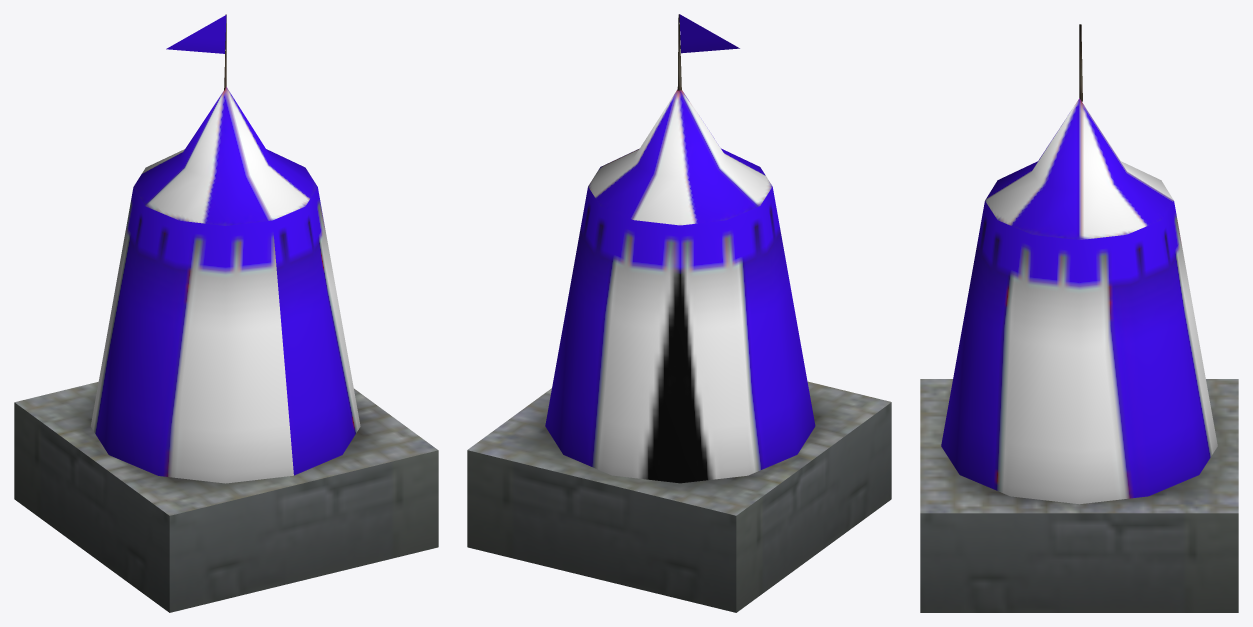
File: med_tile_tent_blue.obj
3 renders of one model, left to right at view 1: azimuth 30°, elevation 25°; view 2: azimuth 150°, elevation 25°; view 3: azimuth 270°, elevation 25°, orthographic. The views are drawn at different scales.
Parts seen in each view (by area): view 1: tile_tent_blue; view 2: tile_tent_blue; view 3: tile_tent_blue.
Boxes of the visible parts, box(x1,y1,x2,y2) form: tile_tent_blue: box(14, 14, 438, 612); tile_tent_blue: box(467, 14, 891, 612); tile_tent_blue: box(920, 24, 1238, 612).
Size of the model in its own units: 1 by 1.81 by 1.
1 material, 1 textured.
